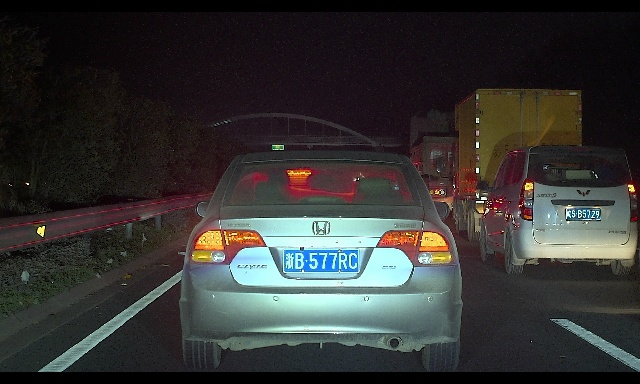car: (179, 149, 463, 372), (475, 145, 638, 276)
truck: (436, 89, 583, 242), (398, 109, 532, 224)
